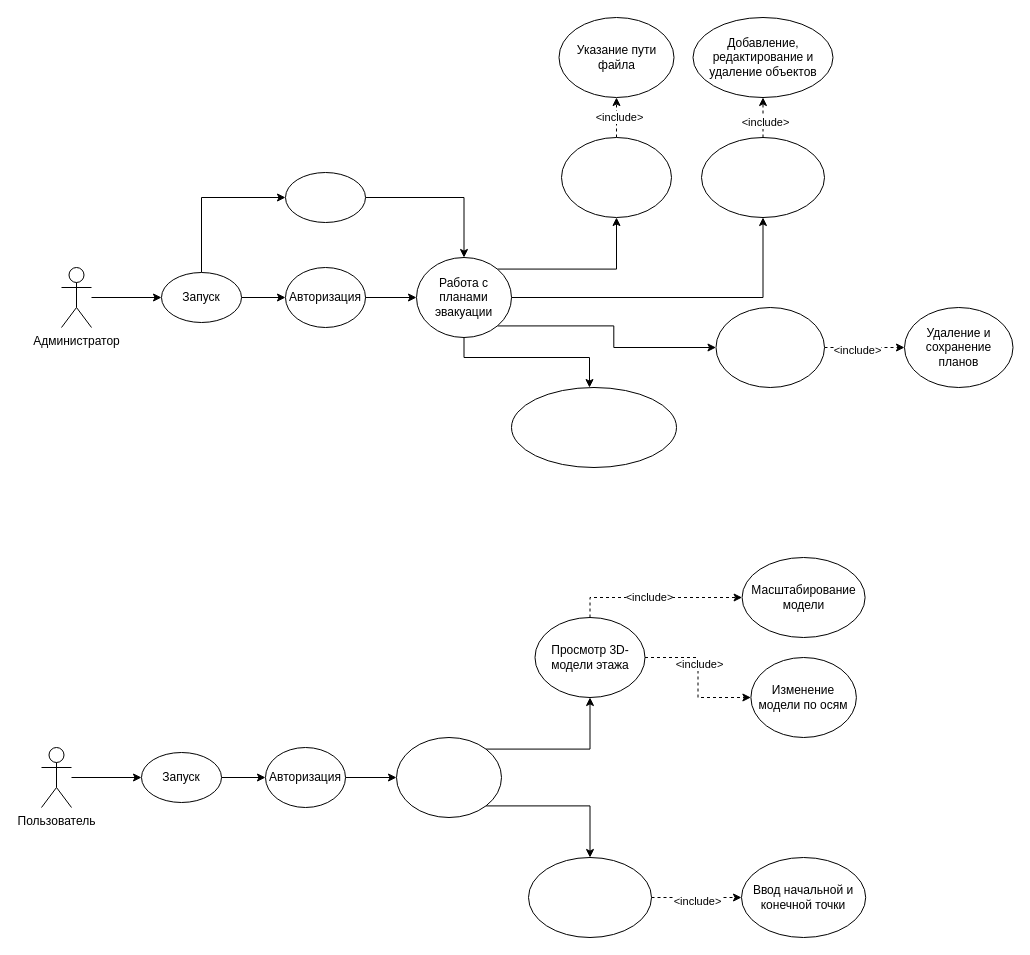
Some shapes in this 1030 by 955 pixel diagram are drawn without their labels. The shapes that lost their labels are listed below. From the top down, each one's centre as x and y in pixels, then its label:
[325,197]: Регистрация
[616,177]: Загрузка плана помещения
[762,177]: Редактирование плана помещения
[769,347]: Управление планами
[593,427]: Редактирование узловых точек графа
[449,777]: Навигация по зданию
[590,897]: Построение маршрута
